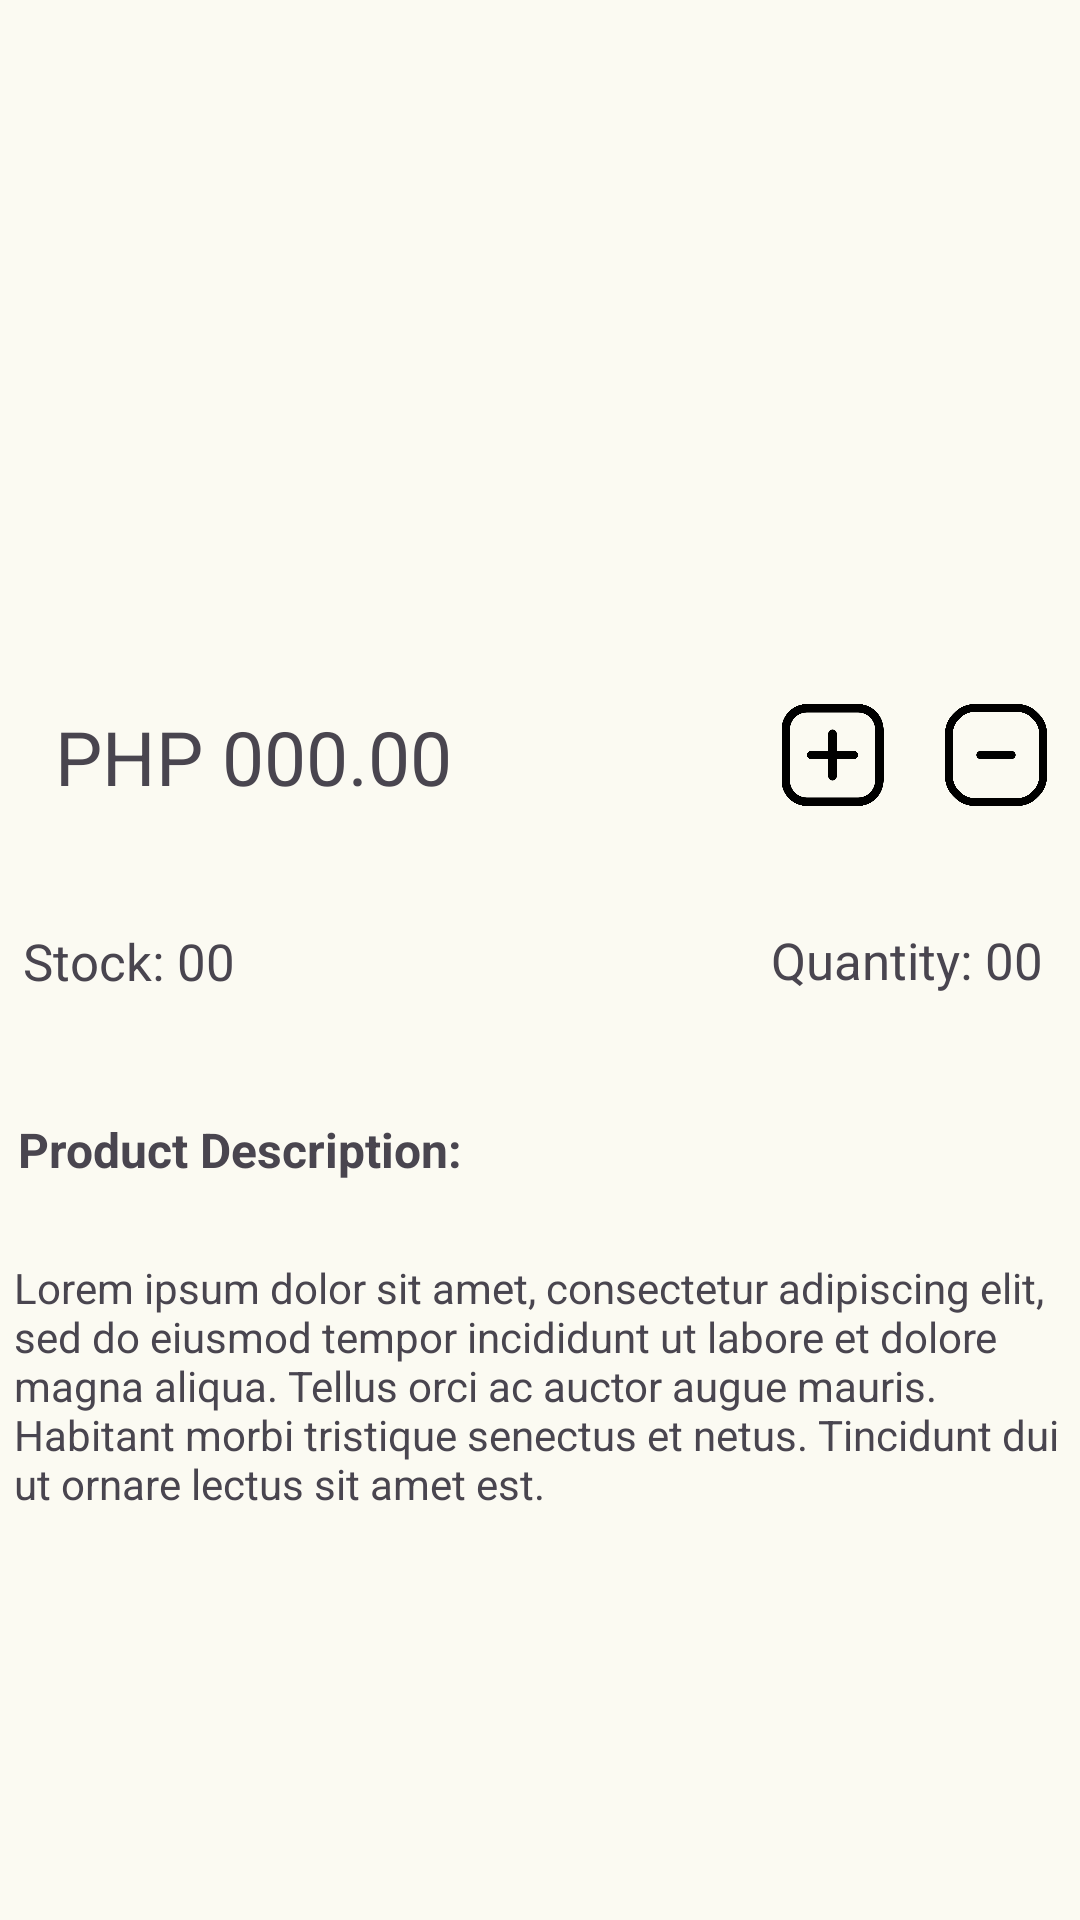

Icon click points for this 1080 x 1920 phone screenshot, format (x=x, y=y):
minus: (x=996, y=755)
plus: (x=833, y=755)
